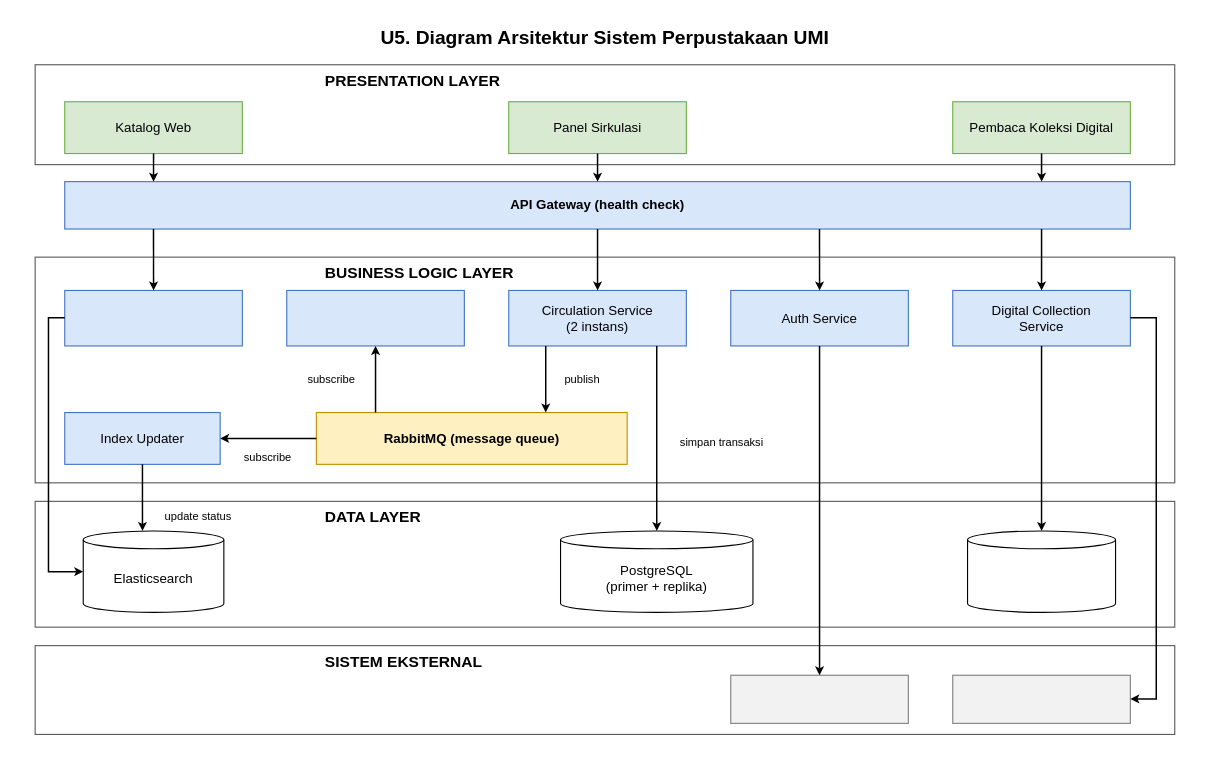
Some shapes in this 1209 by 765 pixel diagram are drawn without their labels. Each missing label, with the centre of its shape:
Catalog Service (2 instans): pixel 153 318
Notification Service: pixel 375 318
Object Storage + CDN: pixel 1041 571
Penyedia Koleksi Digital: pixel 1041 699
SIAKAD: pixel 819 699
